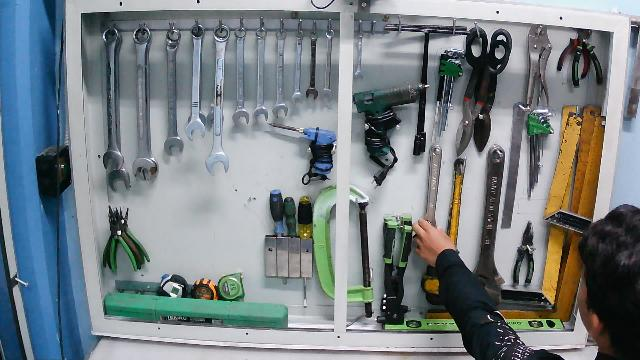kunci_inggris: (417, 142, 447, 262)
